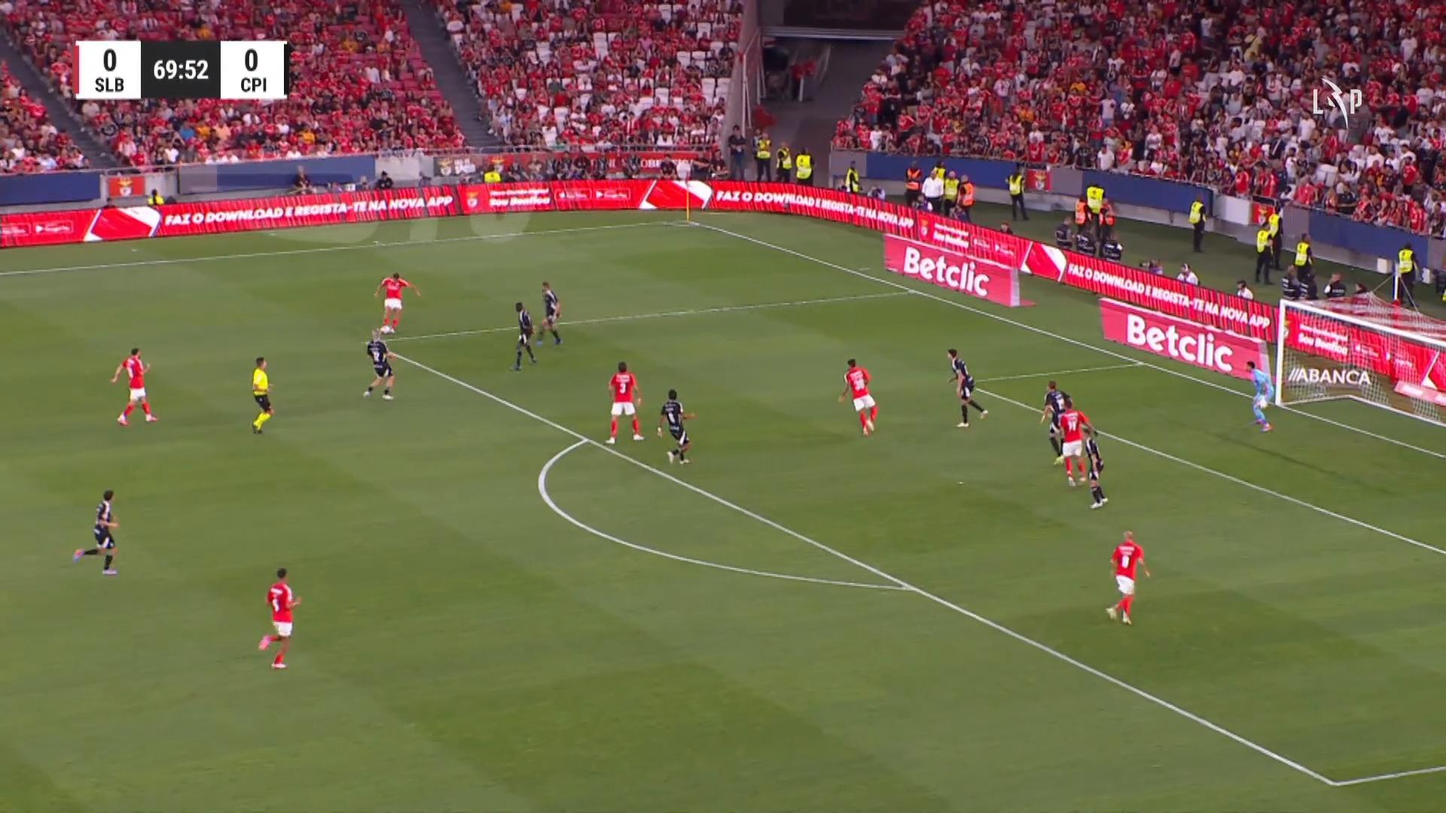ball: (72, 548, 84, 562), (541, 318, 551, 329)
goalkeeper: (1244, 359, 1274, 431)
player: (258, 566, 302, 669), (1104, 530, 1150, 625), (72, 489, 119, 574), (109, 346, 158, 426), (1054, 394, 1095, 486), (945, 347, 989, 428), (605, 361, 645, 443), (837, 358, 878, 437), (656, 388, 696, 464), (373, 271, 421, 333), (362, 327, 398, 400), (1040, 379, 1068, 465), (1082, 431, 1109, 508), (535, 280, 563, 346), (511, 301, 537, 370)
referee: (250, 355, 275, 434)
